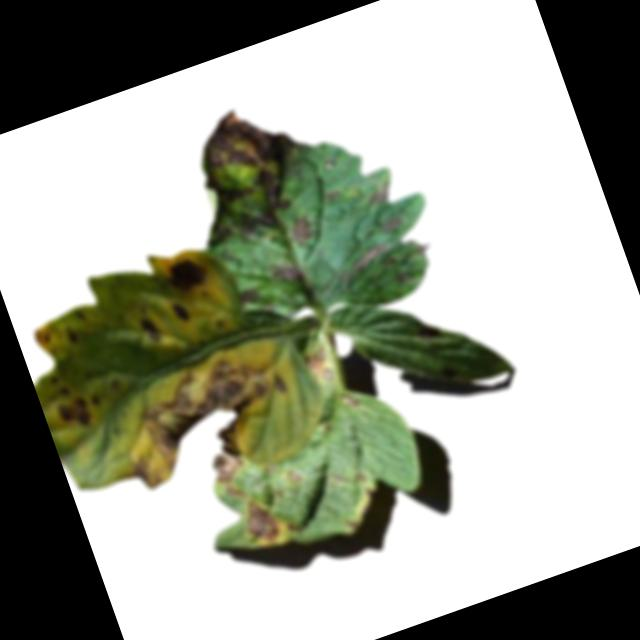Early_blight: (107, 340, 299, 489), (168, 89, 316, 247), (332, 234, 401, 287), (197, 417, 249, 485), (157, 247, 210, 295), (238, 492, 283, 548), (50, 387, 92, 432), (263, 253, 306, 290), (304, 345, 334, 385), (283, 213, 315, 249), (364, 177, 396, 208), (136, 313, 162, 346), (167, 295, 192, 327), (220, 478, 245, 504), (319, 183, 344, 205), (376, 213, 402, 234), (337, 390, 362, 409), (60, 324, 80, 347), (285, 467, 304, 486), (341, 513, 359, 532), (352, 466, 369, 486)
